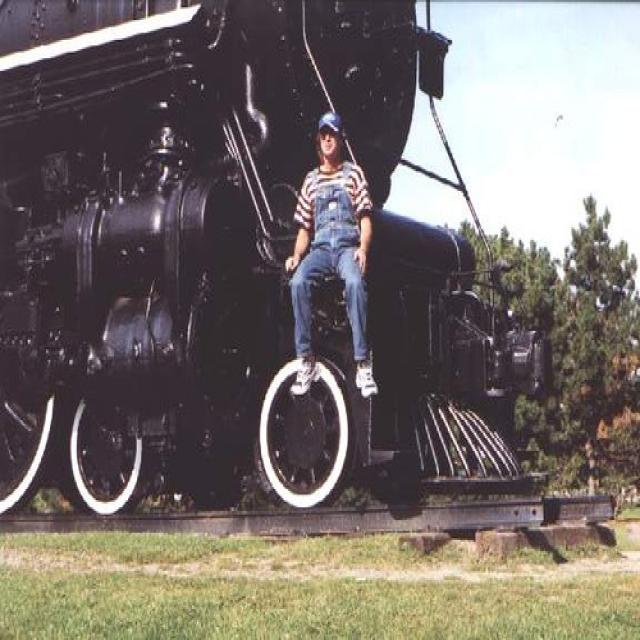train: (0, 0, 548, 515)
